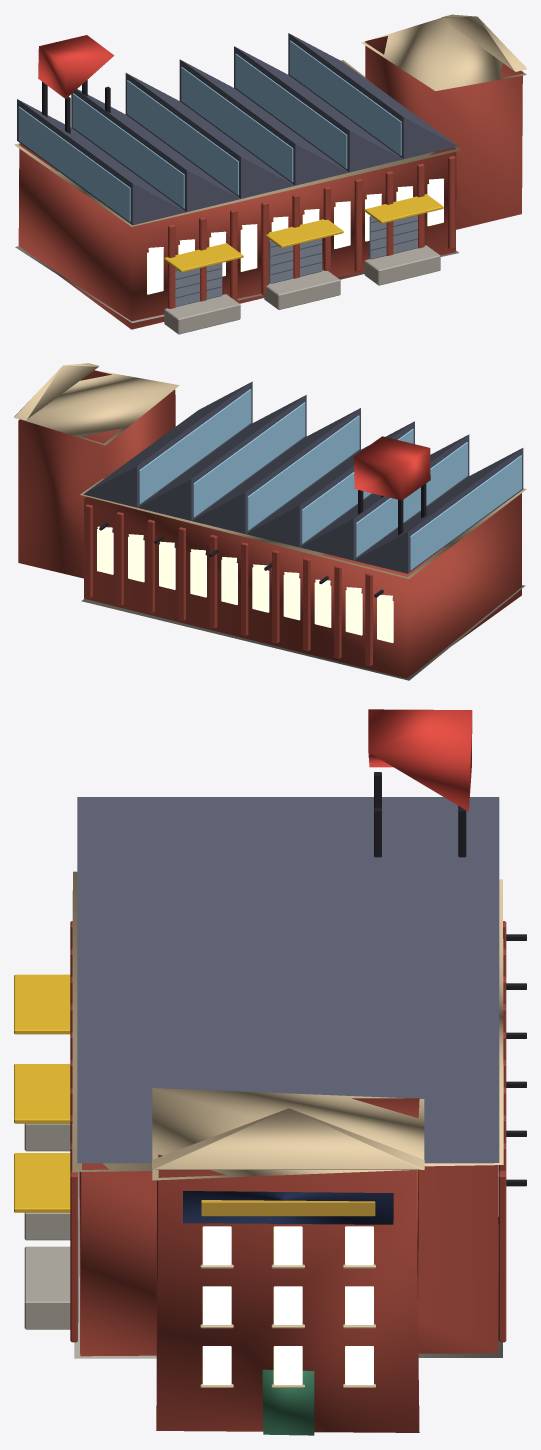
File: factory.glb
3 renders of one model, top to bottom at view 1: azimuth 30°, elevation 25°; view 2: azimuth 150°, elevation 25°; view 3: azimuth 270°, elevation 25°, orthographic. The views are drawn at different scales.
Parts seen in each view (by area): view 1: factory; view 2: factory; view 3: factory.
Part boxes in pixels (x1,y1,x2,y2): factory: [14, 14, 526, 334]; factory: [14, 363, 526, 680]; factory: [14, 709, 526, 1435].
Size of the model in its own units: 33.41 by 15.53 by 19.45.
1 material, 1 textured.
